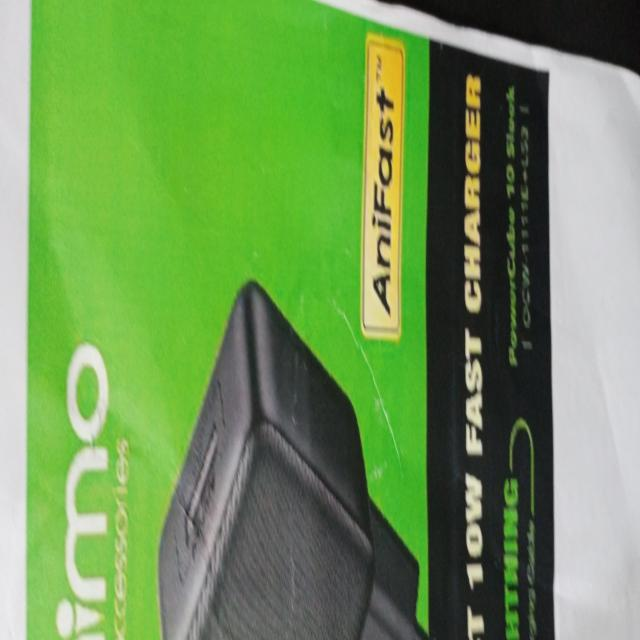PowerCube 10 Sleek OCW-1111ExL53: (499, 72, 535, 378)
